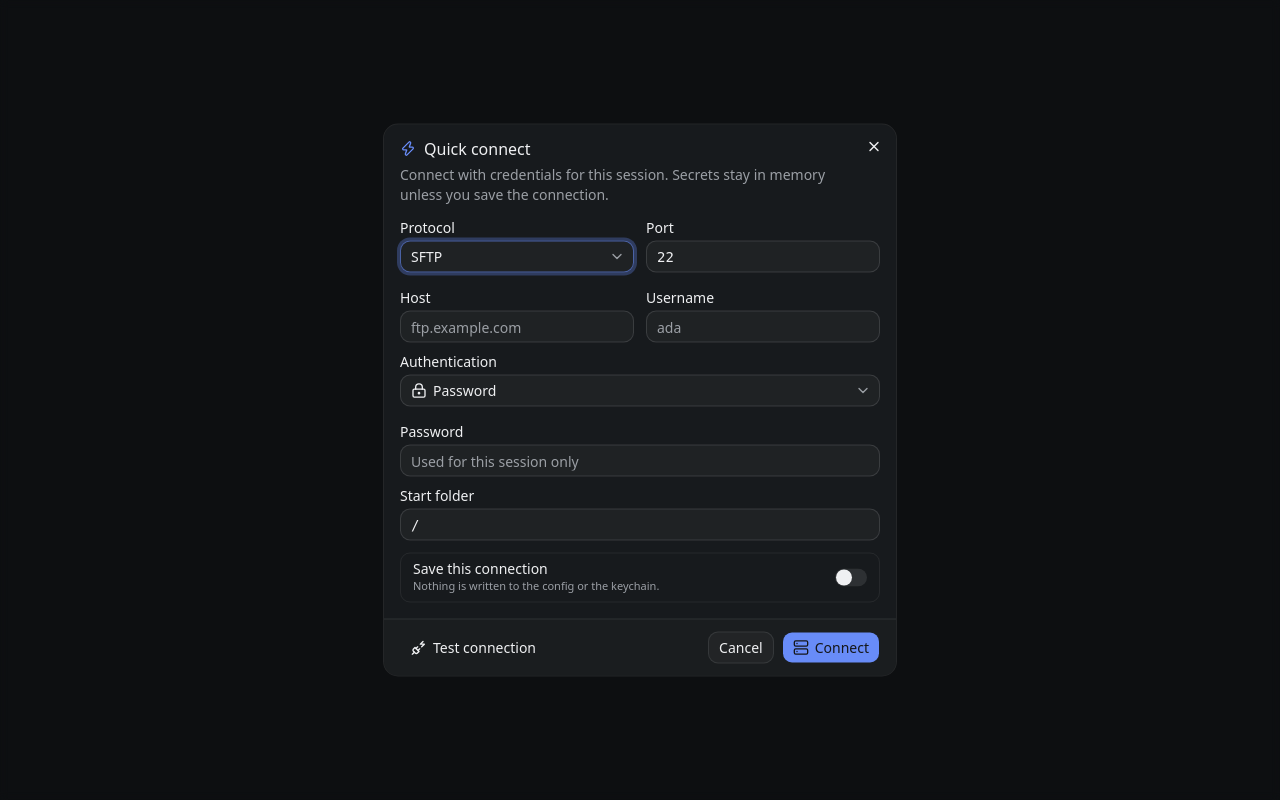
Test: QuickConnectDialog › shows TLS and data-channel options for FTPS
This screenshot has width=1280, height=800.
Click the dropdown named "Protocol".
click(517, 256)  # box x1=400 y1=240 x2=634 y2=272
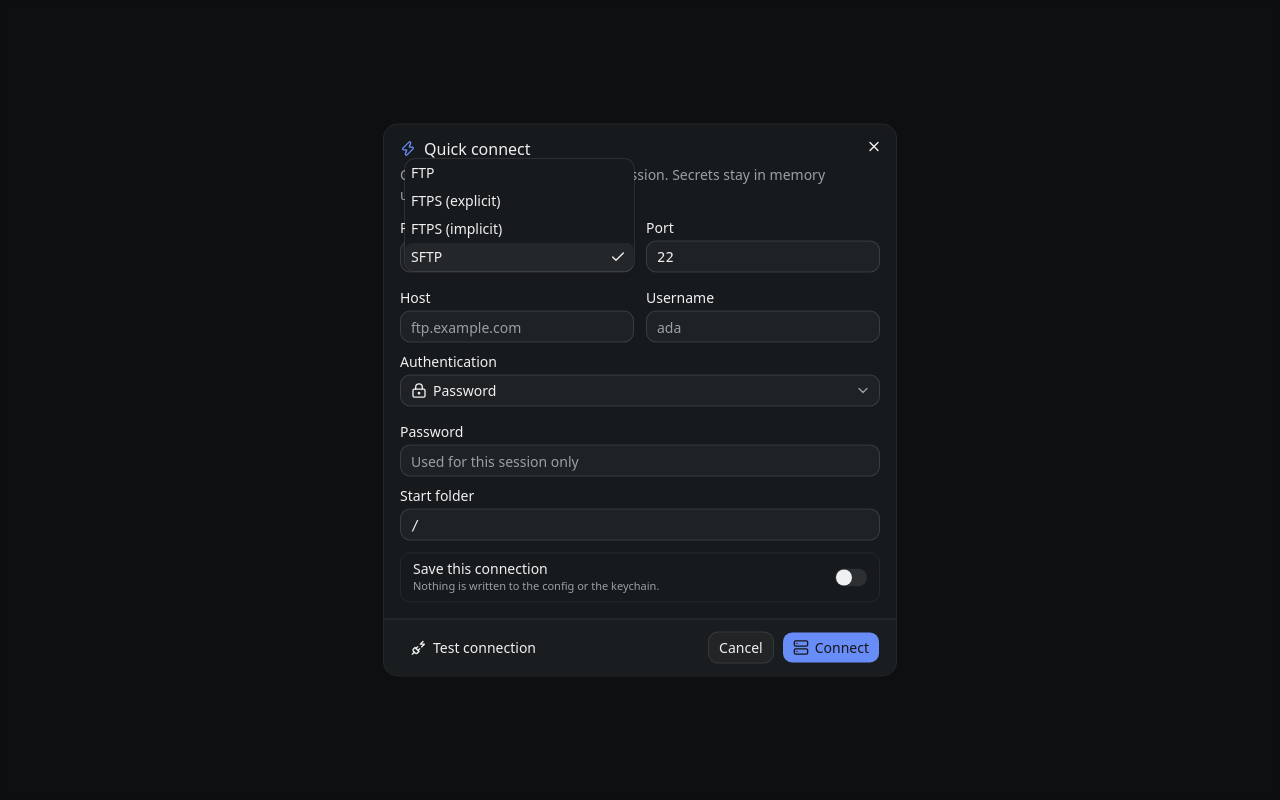
Click the option "FTPS (explicit)".
click(456, 200)  # box x1=411 y1=190 x2=500 y2=210
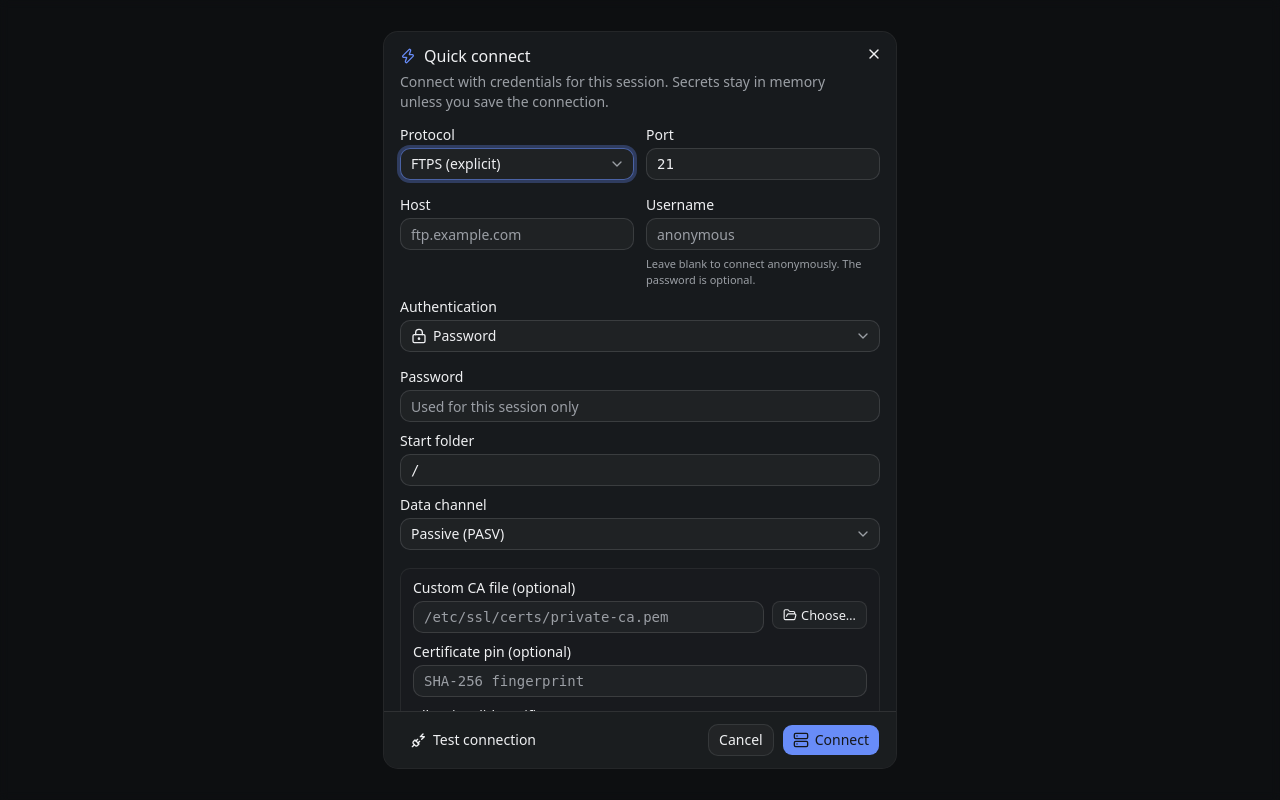
Expected: the field labelled "Custom CA file (optional)" is shown, x1=413 y1=601 x2=764 y2=633
Expected: the field labelled "Certificate pin (optional)" is shown, x1=413 y1=665 x2=867 y2=697
Expected: the dropdown named "Data channel" is shown, x1=400 y1=518 x2=880 y2=550
